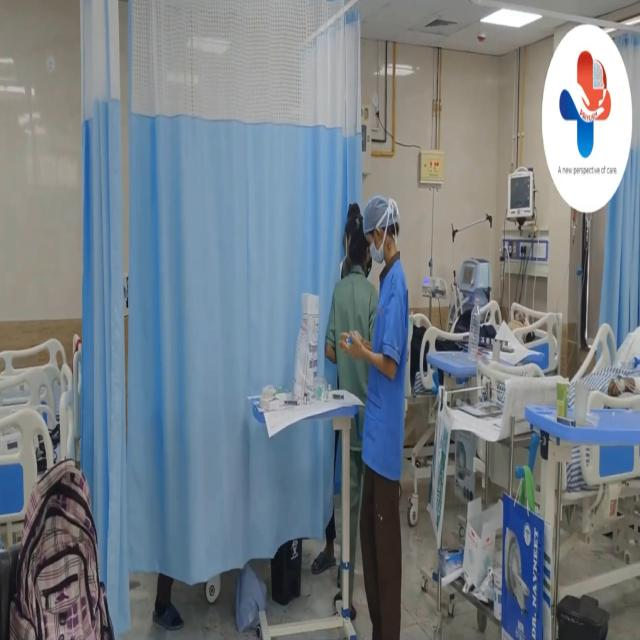Nurse: (357, 190, 410, 640), (328, 188, 372, 550)
Patient: (477, 276, 543, 366)
